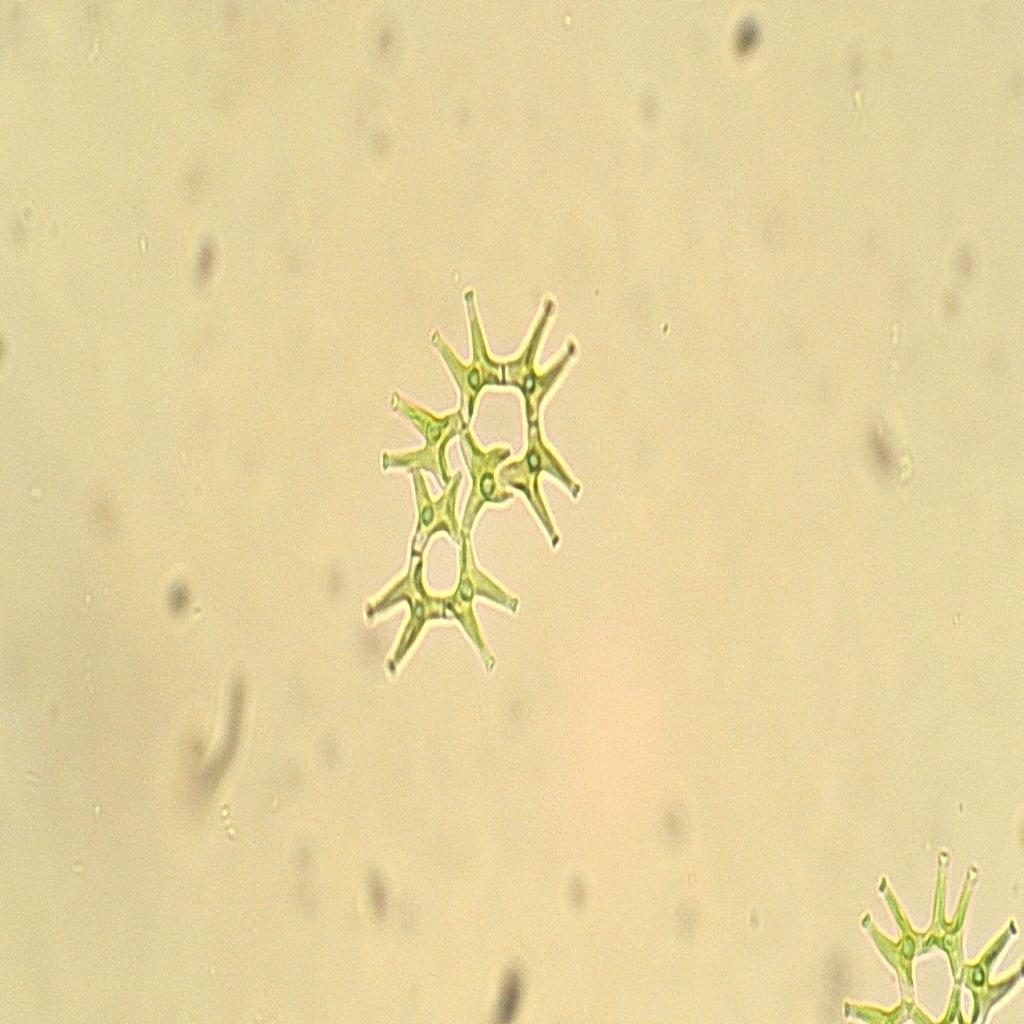Pediastrum_CFI: (356, 262, 588, 720)
